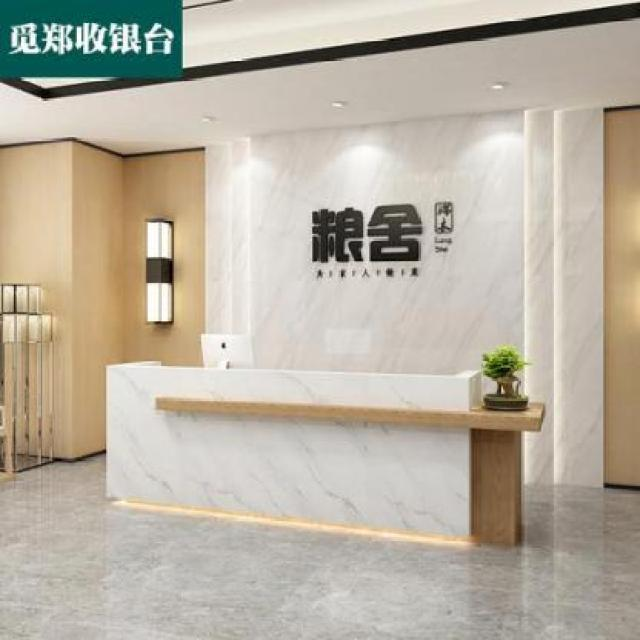frontdesk: (97, 343, 563, 561)
